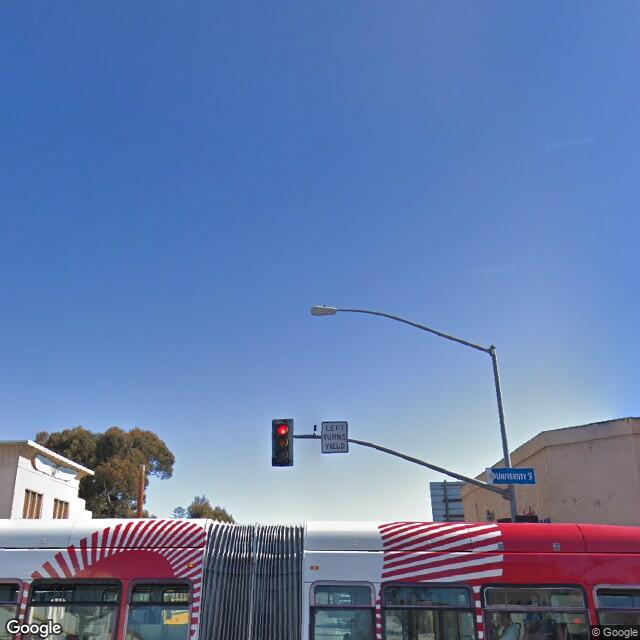light: (304, 306, 341, 319)
